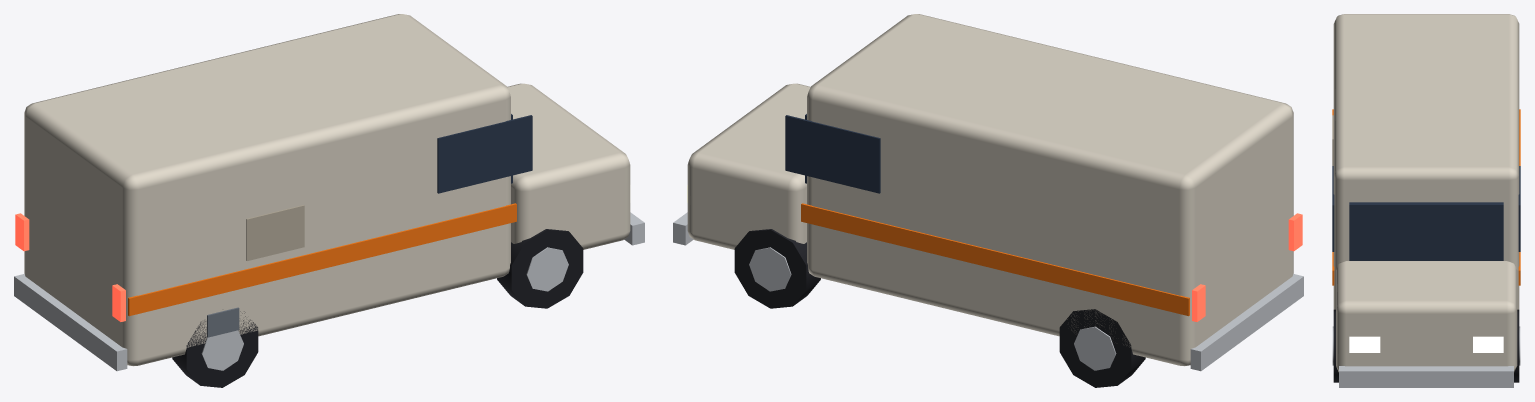
File: welt_kastenwagen.glb
3 views of the same model, side by side, from view 1: azimuth 30°, elevation 25°; view 2: azimuth 150°, elevation 25°; view 3: azimuth 270°, elevation 25° (orthographic). The views are drawn at different scales.
Parts seen in each view (by area): view 1: welt_kastenwagen; view 2: welt_kastenwagen; view 3: welt_kastenwagen.
Boxes of the visible parts, bbox=[...] form: welt_kastenwagen: bbox=[14, 14, 644, 387]; welt_kastenwagen: bbox=[673, 14, 1303, 387]; welt_kastenwagen: bbox=[1332, 14, 1520, 387].
Bounding box in the file's own units: 5.04 × 2.09 × 1.83.
